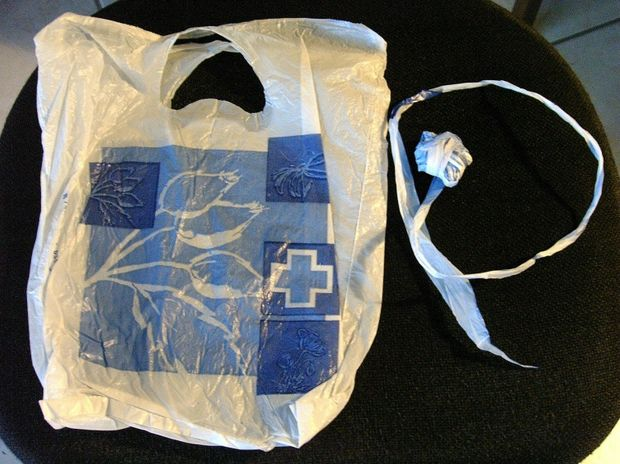plastic bag: (25, 12, 392, 450)
